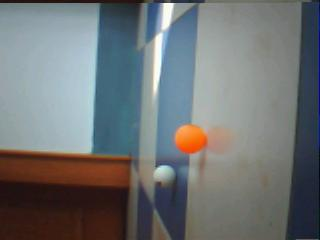oball: (174, 124, 206, 154)
